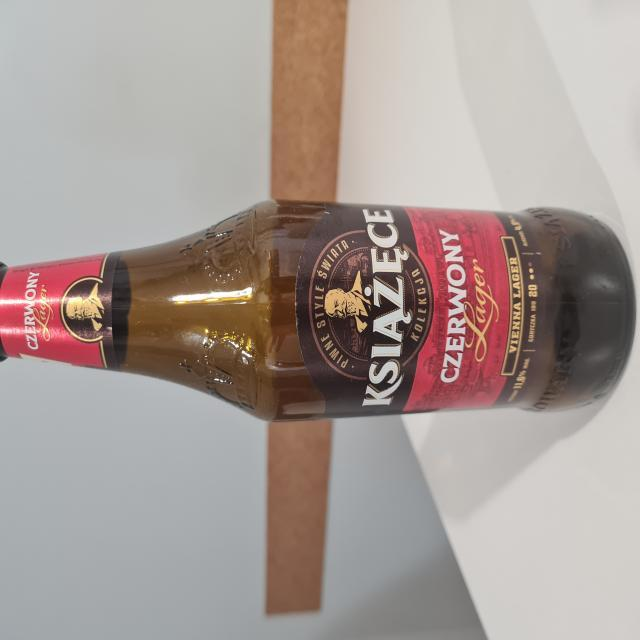Glass: (0, 197, 637, 421)
